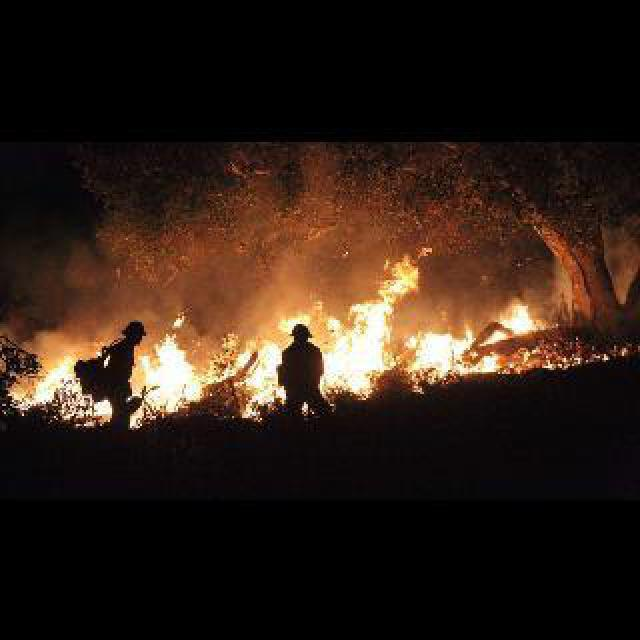fire: (44, 248, 538, 418)
